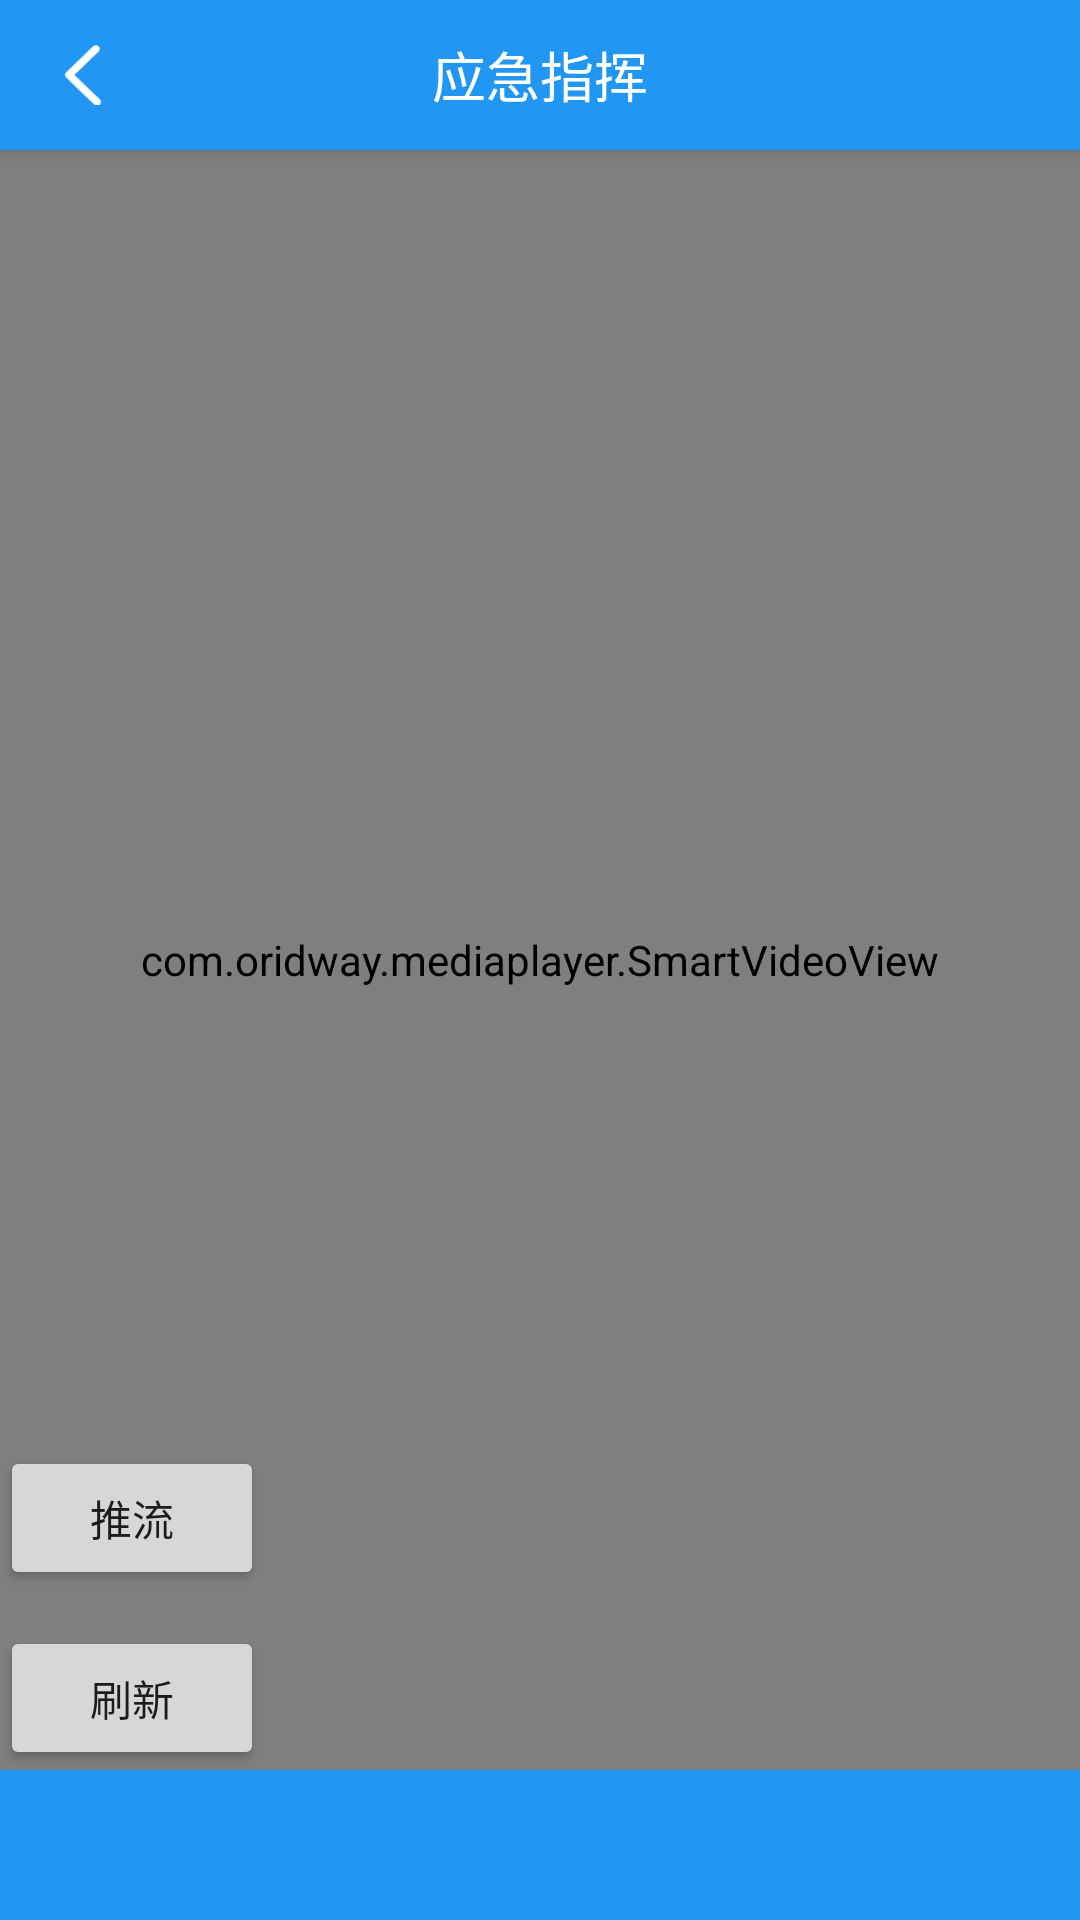

Icons on this 1080w x 1920h Android screen, each with the point to tap as [x,y]:
arrow back: [83,75]
